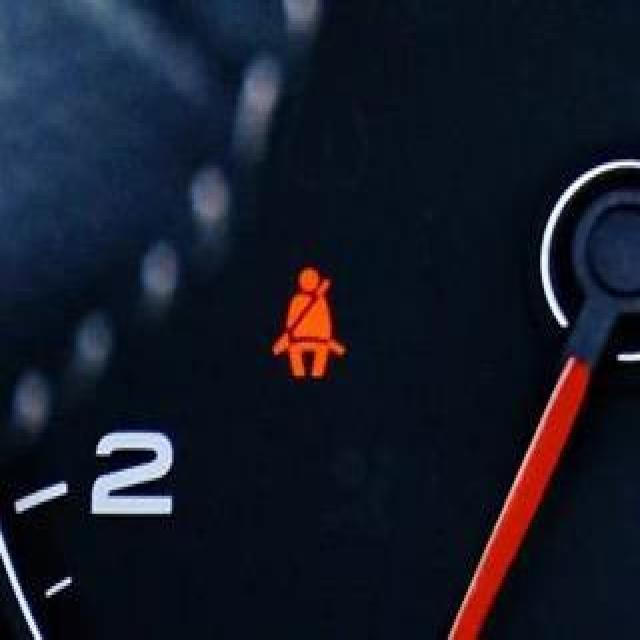kontrolka: (257, 243, 371, 401)
